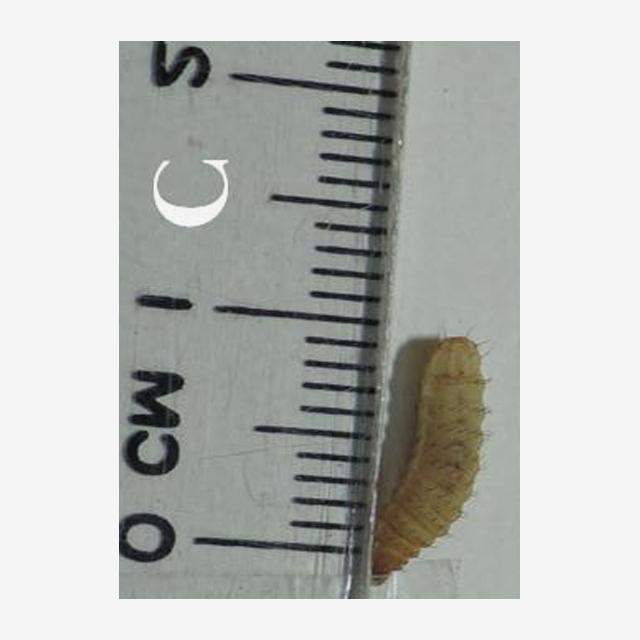Maggot: (367, 337, 491, 587)
